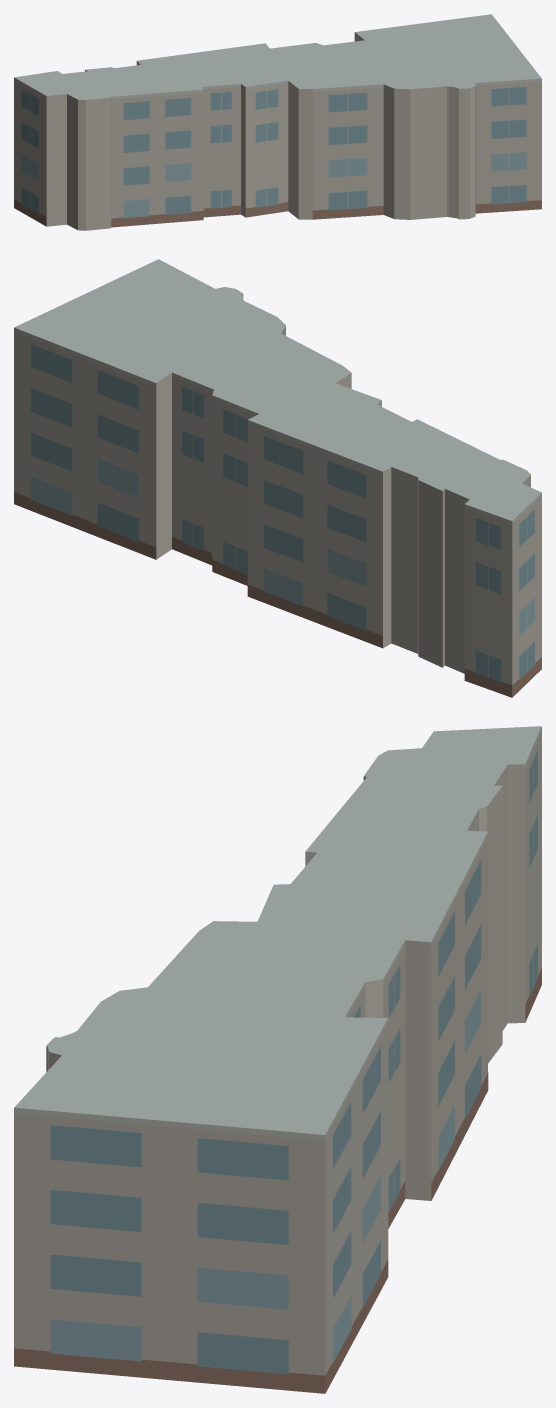
Rendered from survey-upis-32493944.glb.
3 views of the same model, one above another, from view 1: azimuth 30°, elevation 25°; view 2: azimuth 150°, elevation 25°; view 3: azimuth 270°, elevation 25° (orthographic). The views are drawn at different scales.
Visible parts, largest first — view 1: survey-upis-32493944.tmp; view 2: survey-upis-32493944.tmp; view 3: survey-upis-32493944.tmp.
Boxes of the visible parts, x1,y1,x2,y2 form: survey-upis-32493944.tmp: [14, 14, 541, 230]; survey-upis-32493944.tmp: [14, 259, 541, 697]; survey-upis-32493944.tmp: [14, 726, 541, 1393].
Bounding box in the file's own units: 37.97 × 11.2 × 20.71.
